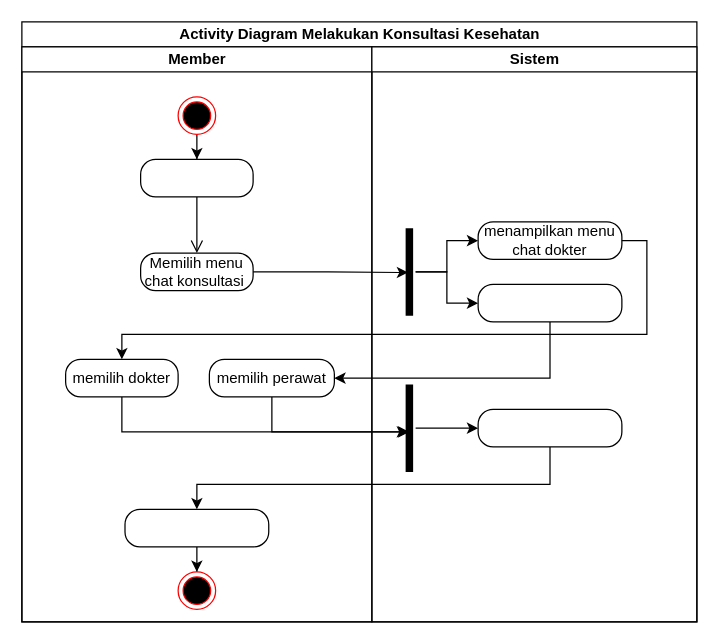
Some shapes in this 719 by 644 pixel diagram are drawn without their labels. Each missing label, with the centre of its shape:
Halaman Utama: [196,177]
melakukan konsultasi: [196,527]
menampilkan menu chat perawat: [549,302]
menampilkan ruang chat: [549,427]
